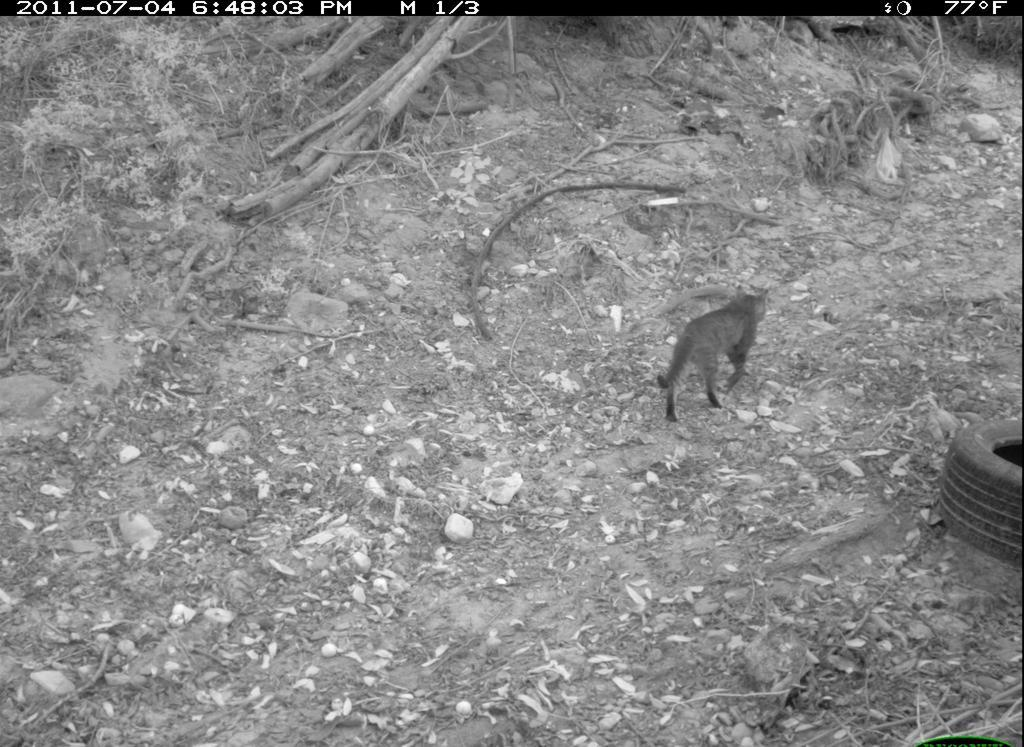cat: (647, 283, 777, 422)
